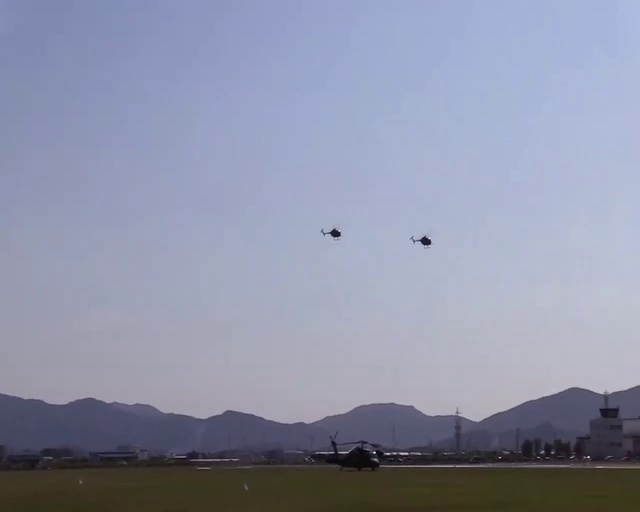HELICOPTER: (320, 226, 341, 239)
